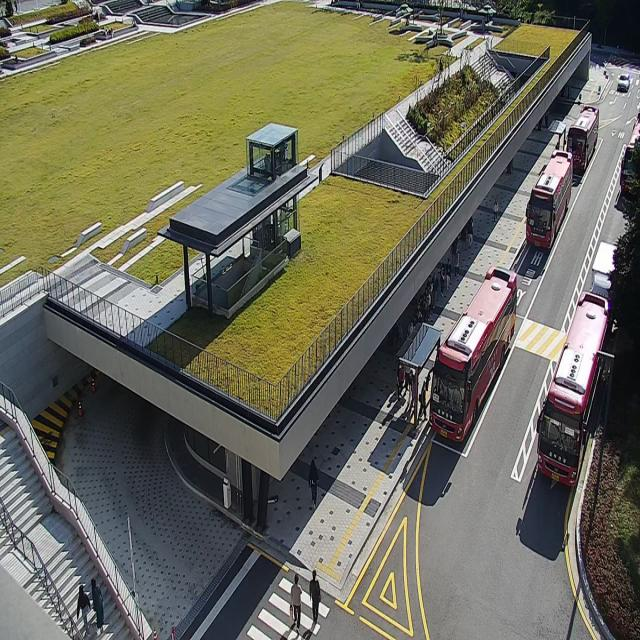queue: (414, 247, 460, 425)
